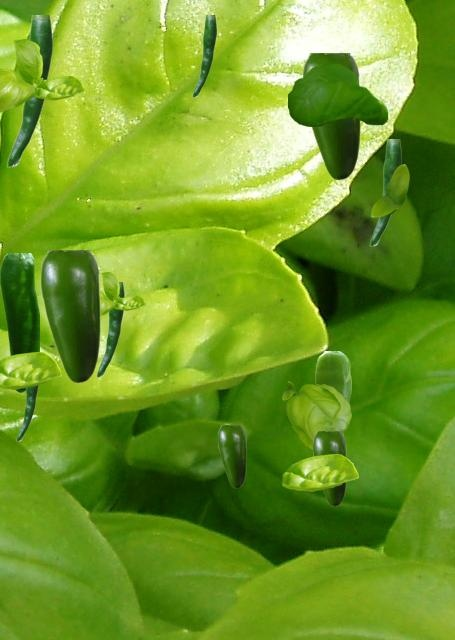green_chili: (41, 250, 99, 382), (303, 53, 359, 179), (6, 15, 51, 166), (0, 253, 38, 391), (369, 139, 400, 245), (314, 351, 350, 433), (96, 282, 123, 376), (313, 431, 345, 505), (192, 15, 215, 96), (218, 425, 245, 487), (16, 386, 37, 440)
